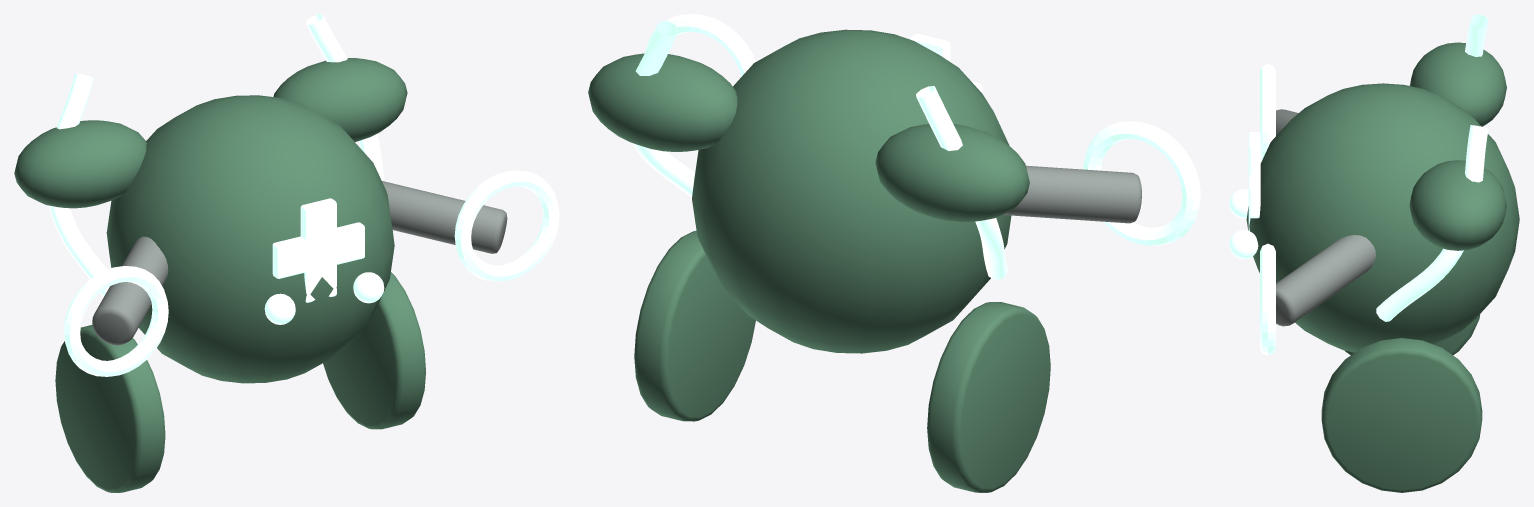
File: card_p0_medic.glb
The picture shows the model from 3 angles, left to right: view 1: azimuth 30°, elevation 25°; view 2: azimuth 150°, elevation 25°; view 3: azimuth 270°, elevation 25°; orthographic projection. The views are drawn at different scales.
Visible parts, largest first — view 1: card_p0_medic; view 2: card_p0_medic; view 3: card_p0_medic.
Boxes of the visible parts, x1=… form: card_p0_medic: x1=14, y1=14, x2=559, y2=492; card_p0_medic: x1=588, y1=14, x2=1200, y2=492; card_p0_medic: x1=1229, y1=14, x2=1519, y2=492.
Size of the model in its own units: 2.01 by 1.47 by 1.08.
